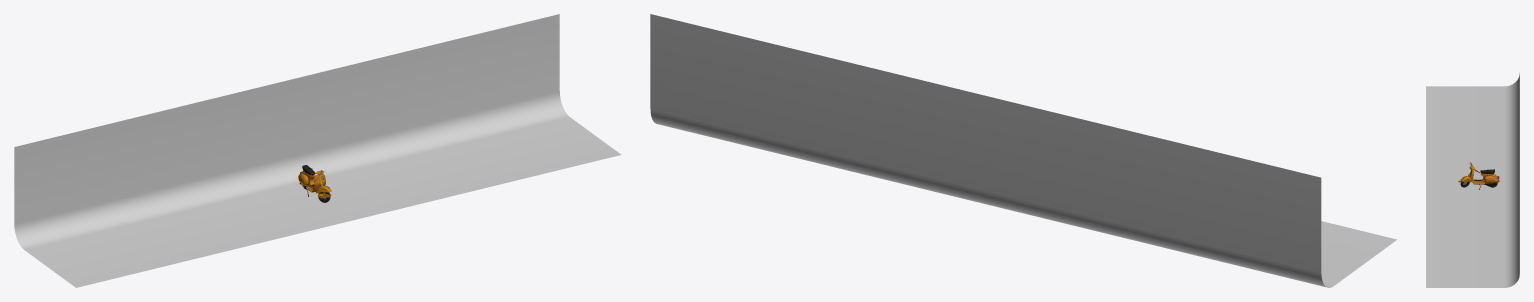
The model's file is chicken.obj.
3 views of the same model, side by side, from view 1: azimuth 30°, elevation 25°; view 2: azimuth 150°, elevation 25°; view 3: azimuth 270°, elevation 25° (orthographic). The views are drawn at different scales.
Visible parts, largest first — view 1: 多边形; view 2: 多边形; view 3: 多边形, Plane.060.
Boxes of the visible parts, bbox=[...] form: 多边形: bbox=[14, 14, 621, 287]; 多边形: bbox=[650, 14, 1396, 287]; 多边形: bbox=[1426, 73, 1519, 287]; Plane.060: bbox=[1484, 175, 1498, 183].
Bounding box in the file's own units: 1429 × 239 × 281.
